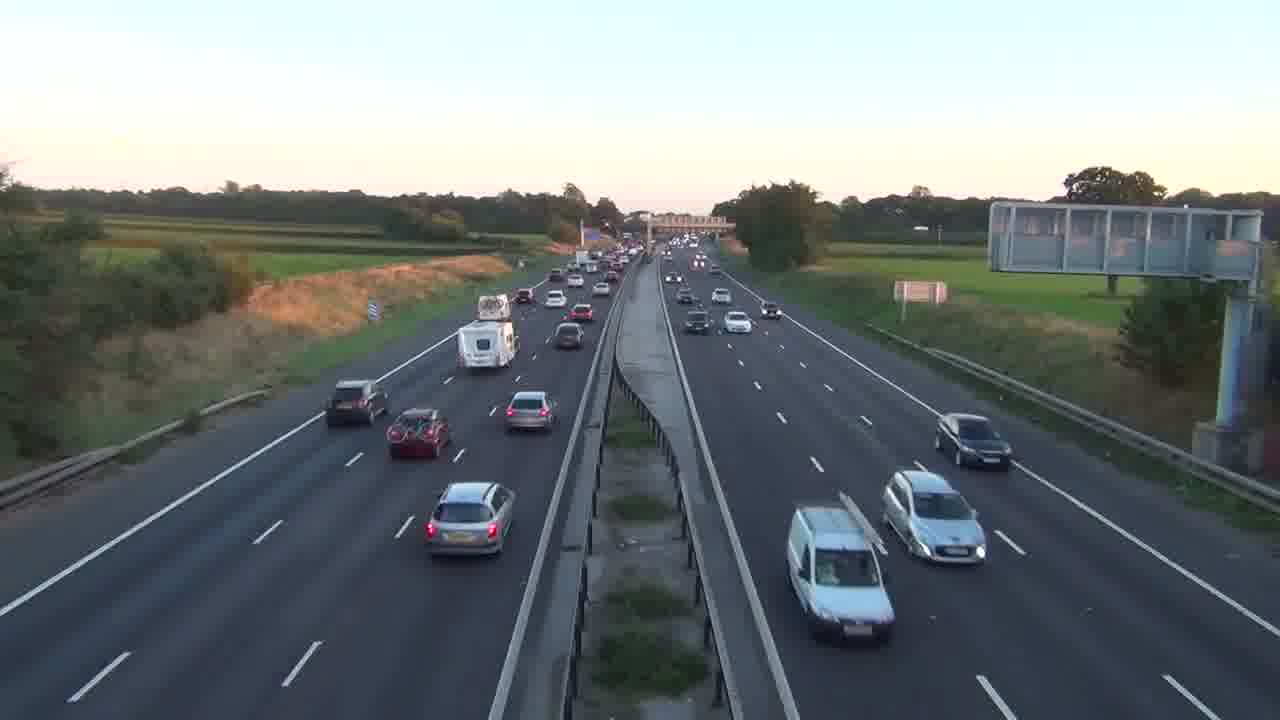car: (784, 495, 896, 645), (880, 465, 989, 566), (422, 480, 517, 558), (934, 412, 1013, 471), (385, 406, 451, 460), (326, 378, 389, 427), (504, 389, 560, 434), (553, 321, 584, 350), (722, 310, 753, 334)
truck: (456, 321, 517, 372), (455, 321, 517, 371), (476, 293, 511, 322)
